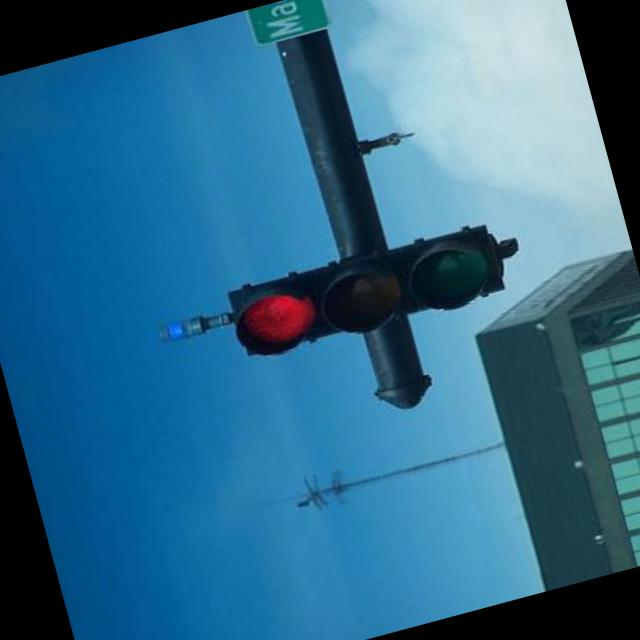red-lights: (220, 276, 328, 369)
